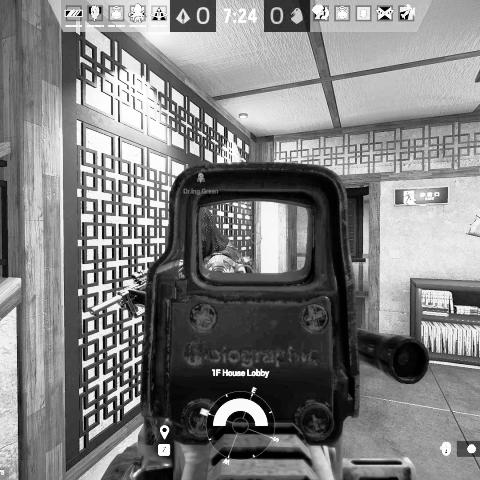Character: (86, 205, 256, 317)
Friend_label: (180, 171, 221, 198)
Head: (199, 208, 226, 252)
